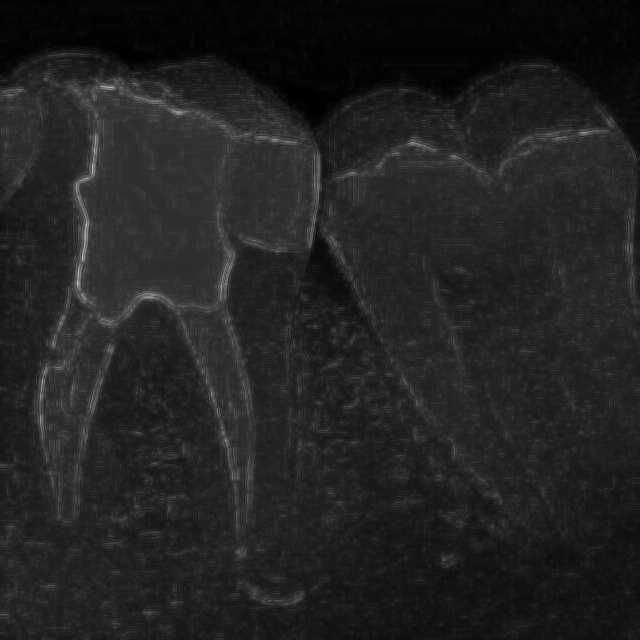Class 0- No endodontic treatment: (2, 52, 337, 594)
cavity: (311, 84, 640, 588)
